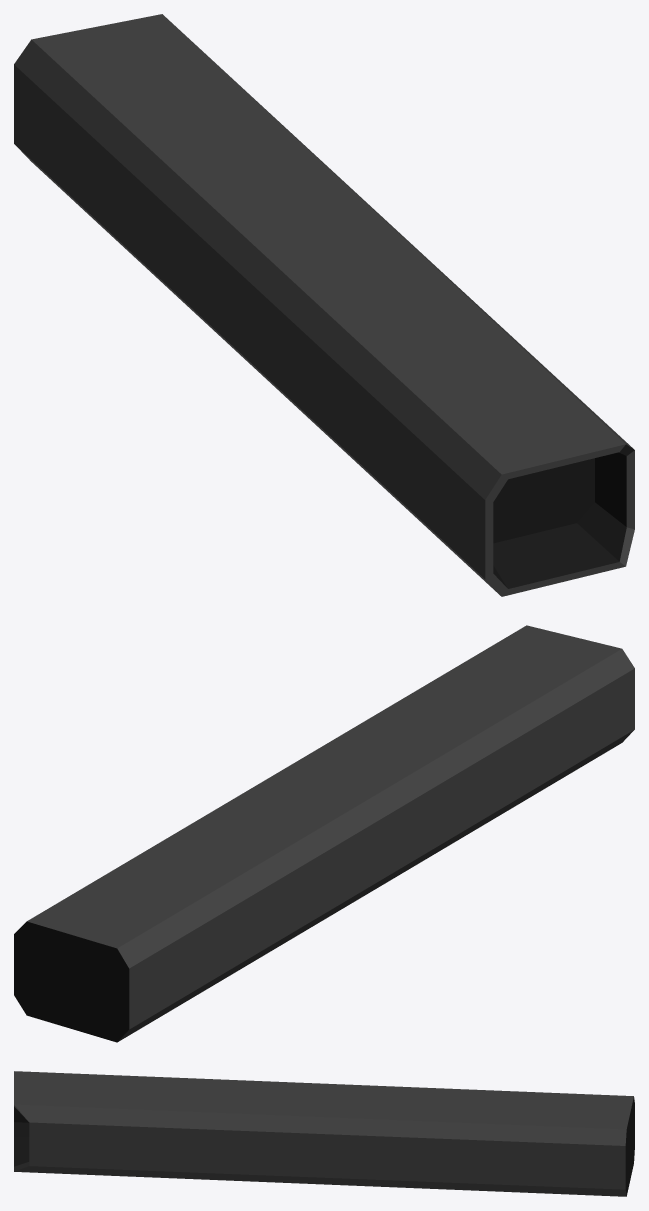
File: Beretta38Mag.glb
The picture shows the model from 3 angles, top to bottom: view 1: azimuth 30°, elevation 25°; view 2: azimuth 150°, elevation 25°; view 3: azimuth 270°, elevation 25°; orthographic projection. The views are drawn at different scales.
Visible parts, largest first — view 1: Beretta38Mag; view 2: Beretta38Mag; view 3: Beretta38Mag.
Boxes of the visible parts, x1,y1,x2,y2 form: Beretta38Mag: (14, 14, 634, 596); Beretta38Mag: (14, 625, 634, 1042); Beretta38Mag: (14, 1071, 634, 1196).
Size of the model in its own units: 0.2631 by 0.1224 by 1.02.
1 material, 1 textured.
